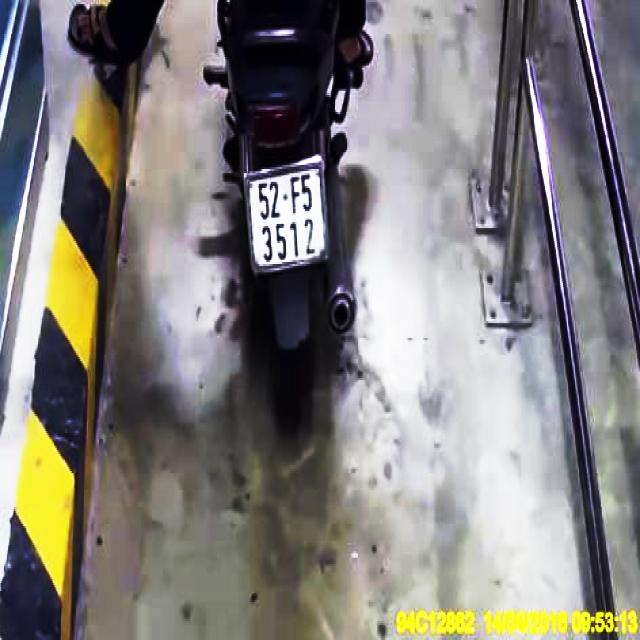license_plate: (246, 158, 330, 272)
